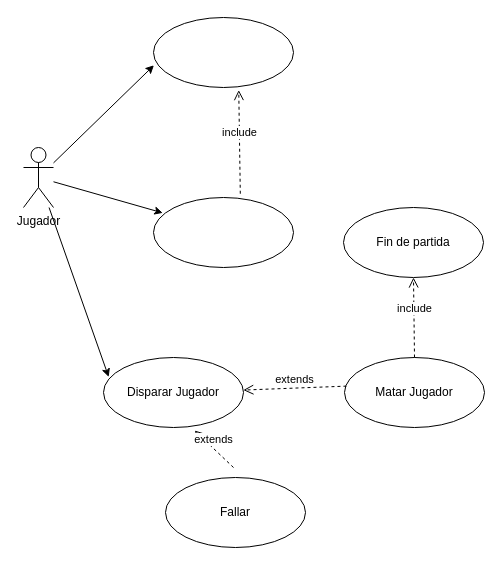
This 502x565 diagram has some shape labels left out. Each missing label, with the centre of its shape:
Crear partida: (223,52)
Unirse a partida: (223,232)
